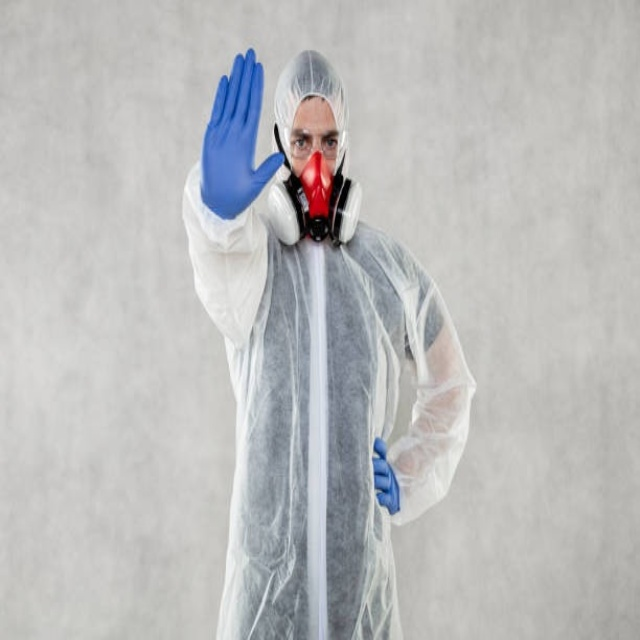Gafas: (283, 125, 350, 165)
Guantes: (200, 48, 286, 221), (372, 437, 400, 516)
Mascara: (270, 151, 363, 251)
